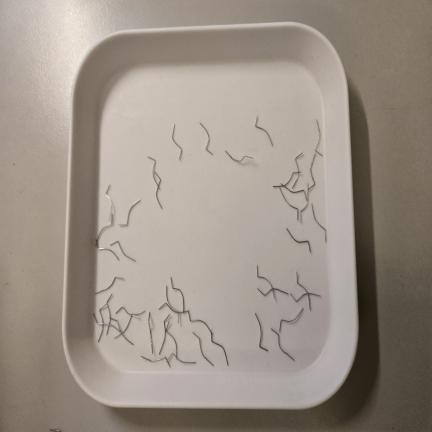probe: (271, 328, 295, 361), (193, 332, 214, 366), (286, 228, 311, 253), (119, 199, 141, 226), (311, 203, 326, 242), (255, 115, 273, 147), (110, 240, 136, 262), (255, 313, 268, 351), (95, 277, 123, 294), (200, 123, 213, 155), (172, 124, 182, 160), (226, 151, 253, 163)
